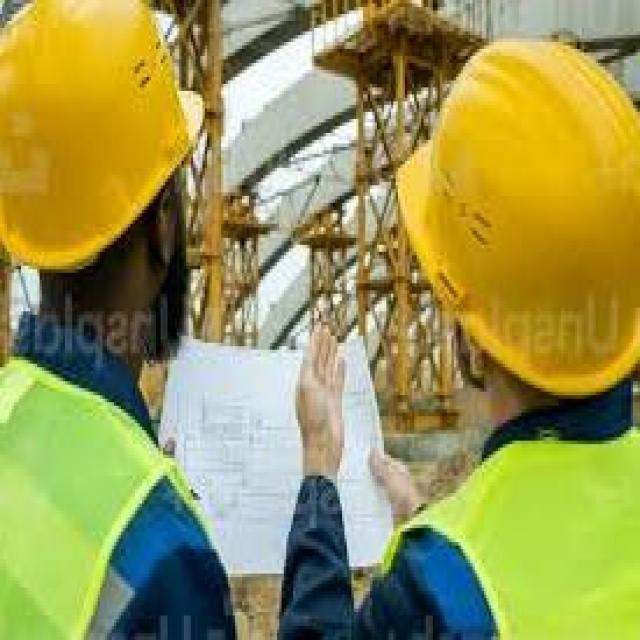Reflective-Jacket: (4, 353, 240, 640), (374, 423, 640, 640)
Safety-Helmet: (388, 31, 640, 402), (0, 10, 205, 287)
